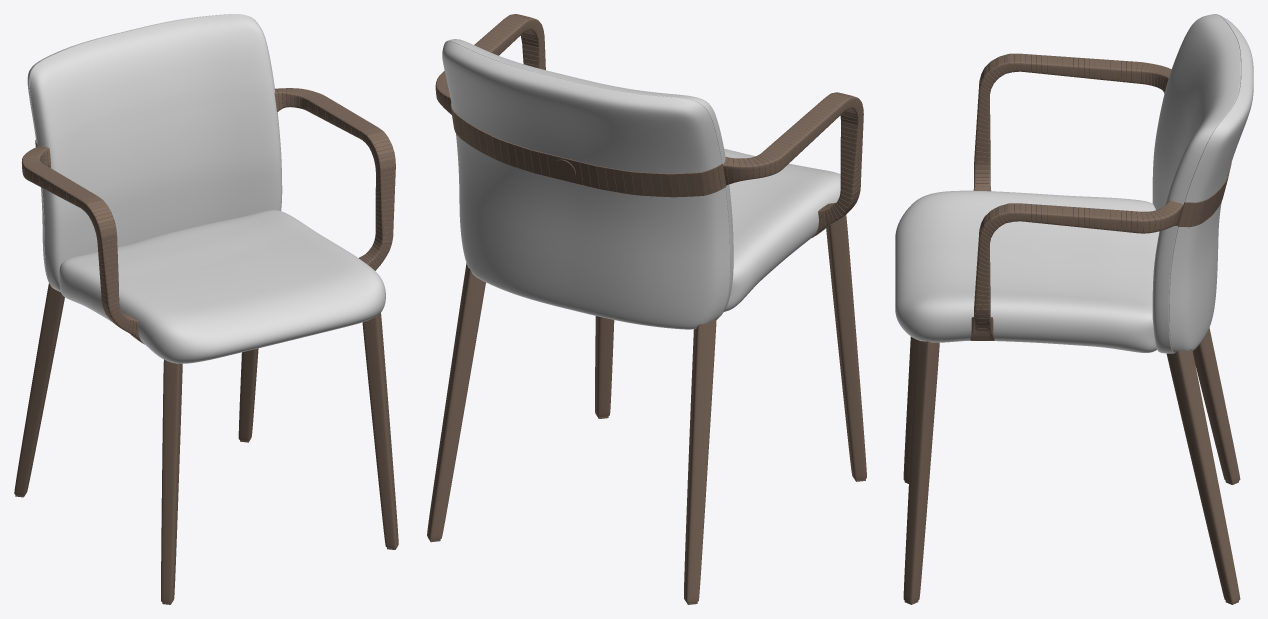
The model's file is SBH_POPULAR.glb.
3 views of the same model, side by side, from view 1: azimuth 30°, elevation 25°; view 2: azimuth 150°, elevation 25°; view 3: azimuth 270°, elevation 25° (orthographic). The views are drawn at different scales.
Parts seen in each view (by area): view 1: POPULAR; view 2: POPULAR; view 3: POPULAR.
Part boxes in pixels (<box>): POPULAR: <box>14,14,398,604</box>; POPULAR: <box>427,14,866,604</box>; POPULAR: <box>895,14,1253,604</box>.
Bounding box in the file's own units: 0.5694 × 0.7898 × 0.5419.
